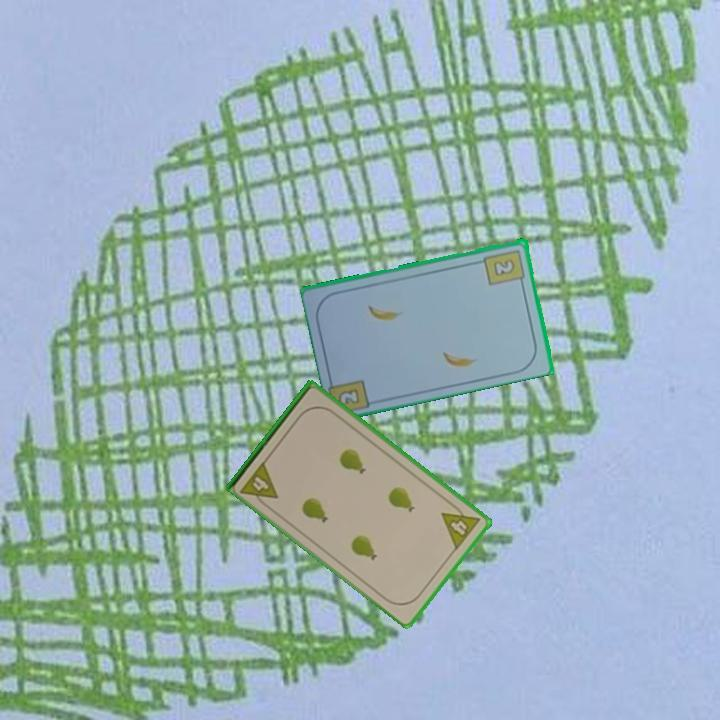2b: (481, 246, 528, 288), (334, 385, 363, 409)
4p: (438, 498, 483, 553), (237, 457, 281, 511)
